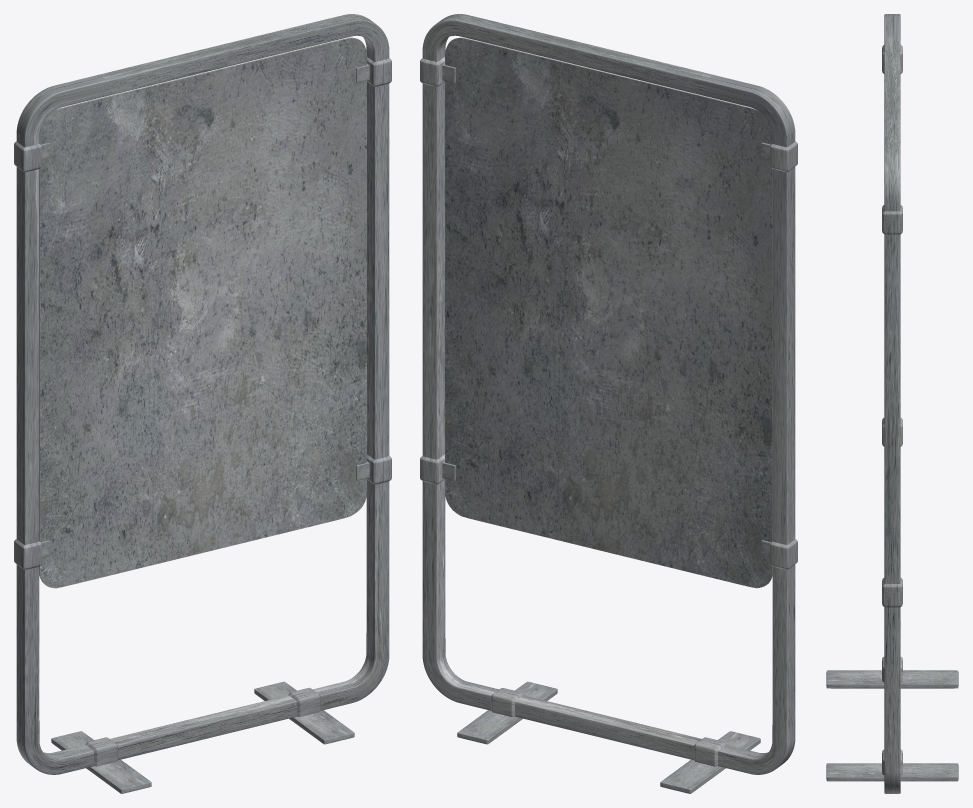
The model's file is banner_f.gltf.
3 views of the same model, side by side, from view 1: azimuth 30°, elevation 25°; view 2: azimuth 150°, elevation 25°; view 3: azimuth 270°, elevation 25° (orthographic). The views are drawn at different scales.
Parts seen in each view (by area): view 1: imageContainer, Sweep.005; view 2: imageContainer, Sweep.005; view 3: Sweep.005.
Part boxes in pixels (<box>): imageContainer: <box>40,37,366,588</box>; Sweep.005: <box>14,14,391,793</box>; imageContainer: <box>445,38,772,587</box>; Sweep.005: <box>420,14,797,793</box>; Sweep.005: <box>826,14,958,793</box>.
Bounding box in the file's own units: 61.28 × 109 × 20.23.
Materials: 1 (1 with a texture image).
